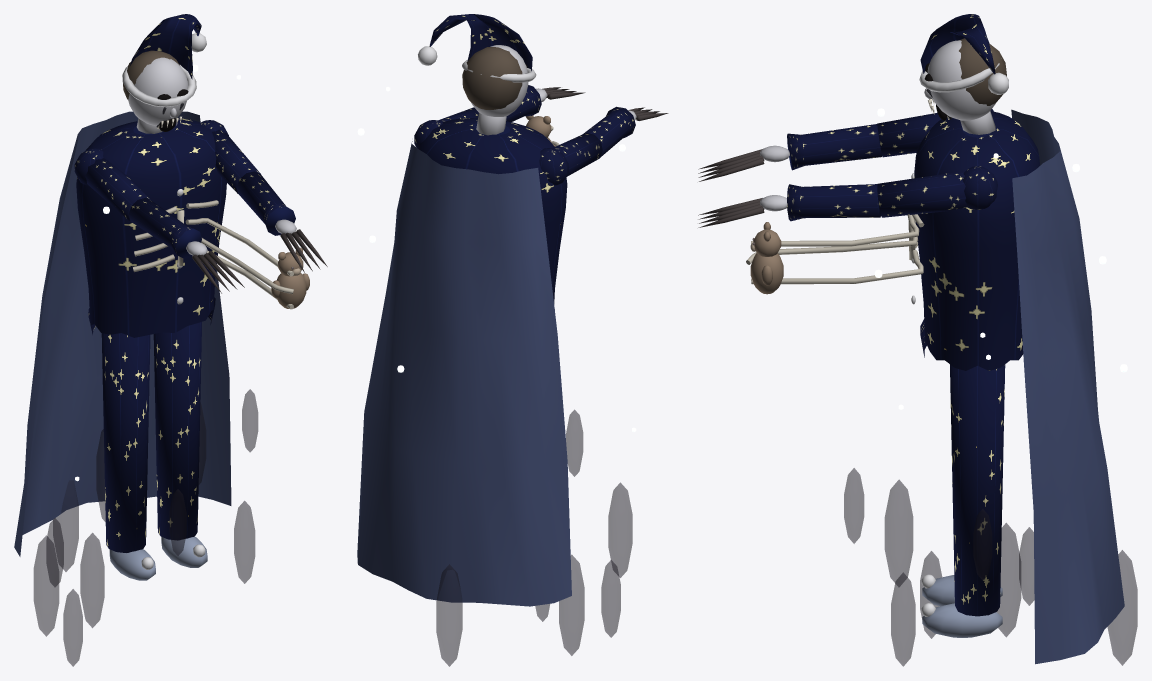
The model's file is sleepwalker.glb.
3 renders of one model, left to right at view 1: azimuth 30°, elevation 25°; view 2: azimuth 150°, elevation 25°; view 3: azimuth 270°, elevation 25°, orthographic. The views are drawn at different scales.
Parts seen in each view (by area): view 1: Quilt, Sleepwalker_Root_StarryPajamas, Sleepwalker_Root_HSmoke, LegLegA, LegLegB, ArmA_StarryPajamas, ArmB_StarryPajamas, Head_SleepySkin, Sleepwalker_Root_HBone, Nightcap, ArmB_Teddy, Head_Pom (+5 smaller); view 2: Quilt, Sleepwalker_Root_HSmoke, Sleepwalker_Root_StarryPajamas, ArmA_StarryPajamas, Hair, Nightcap, ArmB_StarryPajamas, Head_SleepySkin, Head_Pom; view 3: Quilt, Sleepwalker_Root_StarryPajamas, LegLegB, Sleepwalker_Root_HSmoke, ArmB_StarryPajamas, ArmA_StarryPajamas, Sleepwalker_Root_HBone, Head_SleepySkin, Nightcap, SlipperLegB, ArmB_Teddy, Hair (+4 smaller).
Part boxes in pixels (x1=…): Quilt: x1=14, y1=111, x2=231, y2=556; Sleepwalker_Root_StarryPajamas: x1=76, y1=118, x2=226, y2=337; Sleepwalker_Root_HSmoke: x1=33, y1=389, x2=258, y2=666; LegLegA: x1=101, y1=333, x2=150, y2=552; LegLegB: x1=153, y1=322, x2=201, y2=540; ArmA_StarryPajamas: x1=74, y1=148, x2=201, y2=258; ArmB_StarryPajamas: x1=200, y1=120, x2=295, y2=235; Head_SleepySkin: x1=128, y1=57, x2=188, y2=133; Sleepwalker_Root_HBone: x1=133, y1=200, x2=293, y2=309; Nightcap: x1=130, y1=14, x2=201, y2=79; ArmB_Teddy: x1=271, y1=247, x2=309, y2=308; Head_Pom: x1=122, y1=33, x2=206, y2=106; Quilt: x1=357, y1=141, x2=571, y2=606; Sleepwalker_Root_HSmoke: x1=436, y1=409, x2=632, y2=666; Sleepwalker_Root_StarryPajamas: x1=418, y1=118, x2=567, y2=309; ArmA_StarryPajamas: x1=539, y1=106, x2=635, y2=185; Hair: x1=462, y1=47, x2=522, y2=109; Nightcap: x1=429, y1=14, x2=532, y2=71; ArmB_StarryPajamas: x1=414, y1=85, x2=541, y2=148; Head_SleepySkin: x1=471, y1=45, x2=528, y2=135; Head_Pom: x1=418, y1=46, x2=536, y2=82; Quilt: x1=1011, y1=109, x2=1124, y2=664; Sleepwalker_Root_StarryPajamas: x1=914, y1=111, x2=1039, y2=370; LegLegB: x1=950, y1=364, x2=1005, y2=616; Sleepwalker_Root_HSmoke: x1=844, y1=468, x2=1137, y2=666; ArmB_StarryPajamas: x1=787, y1=166, x2=997, y2=221; ArmA_StarryPajamas: x1=787, y1=109, x2=993, y2=170; Sleepwalker_Root_HBone: x1=746, y1=214, x2=924, y2=284; Head_SleepySkin: x1=924, y1=40, x2=995, y2=134; Nightcap: x1=920, y1=14, x2=995, y2=74; SlipperLegB: x1=922, y1=603, x2=1002, y2=637; ArmB_Teddy: x1=750, y1=222, x2=783, y2=294; Hair: x1=959, y1=38, x2=1006, y2=105.
Bounding box in the file's own units: 0.7587 × 2.01 × 1.17.
19 materials, 2 textured.
